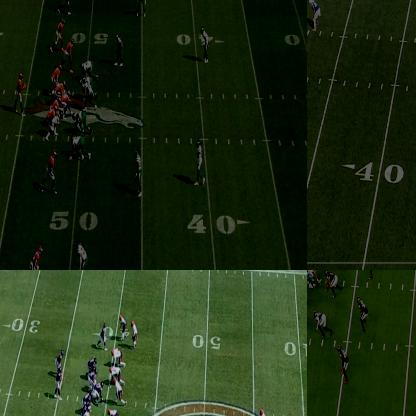CENTER: (310, 270, 323, 288), (62, 91, 72, 114), (92, 383, 103, 403)
DB: (196, 143, 206, 187), (76, 242, 88, 269), (112, 35, 122, 67), (310, 0, 321, 29), (339, 346, 347, 384), (201, 28, 209, 61), (121, 313, 127, 337), (138, 0, 146, 17), (261, 407, 270, 415)
LB: (82, 78, 95, 110), (357, 298, 367, 331), (136, 152, 143, 188), (116, 380, 125, 406), (132, 320, 139, 349), (307, 16, 310, 57), (365, 270, 376, 279)
QB: (15, 73, 23, 115), (57, 365, 64, 399)
SKILL: (46, 149, 58, 188), (26, 245, 42, 269), (54, 18, 66, 46), (65, 39, 75, 62), (100, 323, 108, 347), (57, 350, 65, 370), (61, 0, 72, 12)
